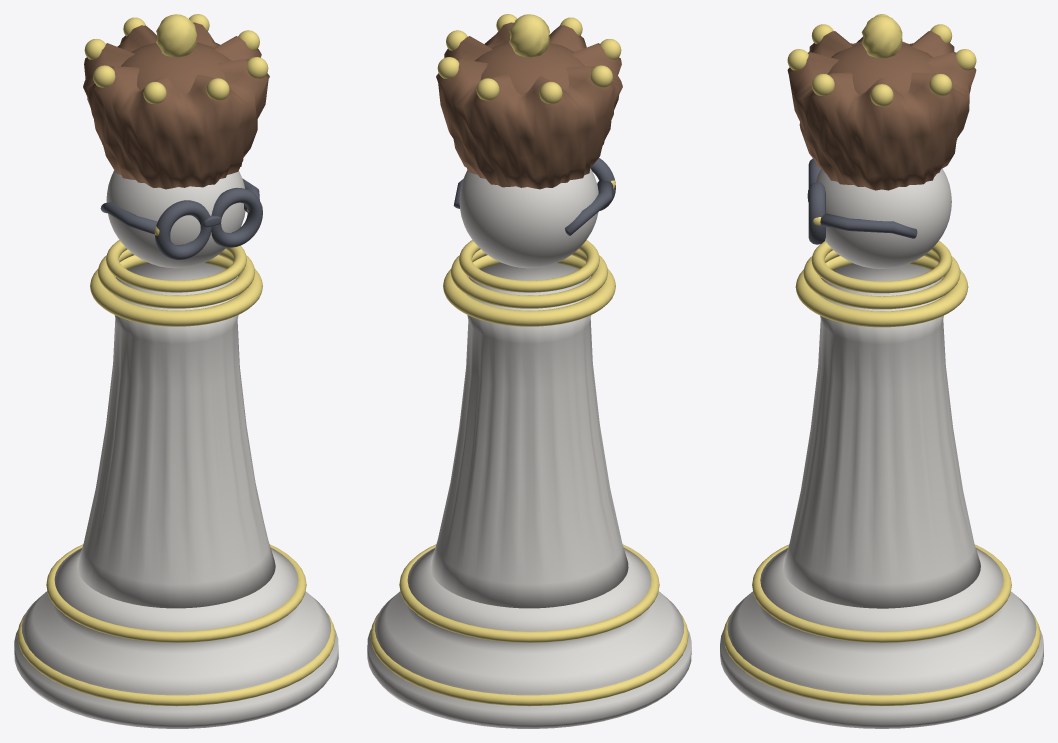
The model's file is queen-classic-ciocco.glb.
3 renders of one model, left to right at view 1: azimuth 30°, elevation 25°; view 2: azimuth 150°, elevation 25°; view 3: azimuth 270°, elevation 25°, orthographic.
Parts seen in each view (by area): view 1: queen-classic-ciocco; view 2: queen-classic-ciocco; view 3: queen-classic-ciocco.
Part boxes in pixels (<box>): queen-classic-ciocco: <box>14,14,338,728</box>; queen-classic-ciocco: <box>367,14,691,728</box>; queen-classic-ciocco: <box>720,14,1043,728</box>.
Bounding box in the file's own units: 0.75 × 1.65 × 0.75.
